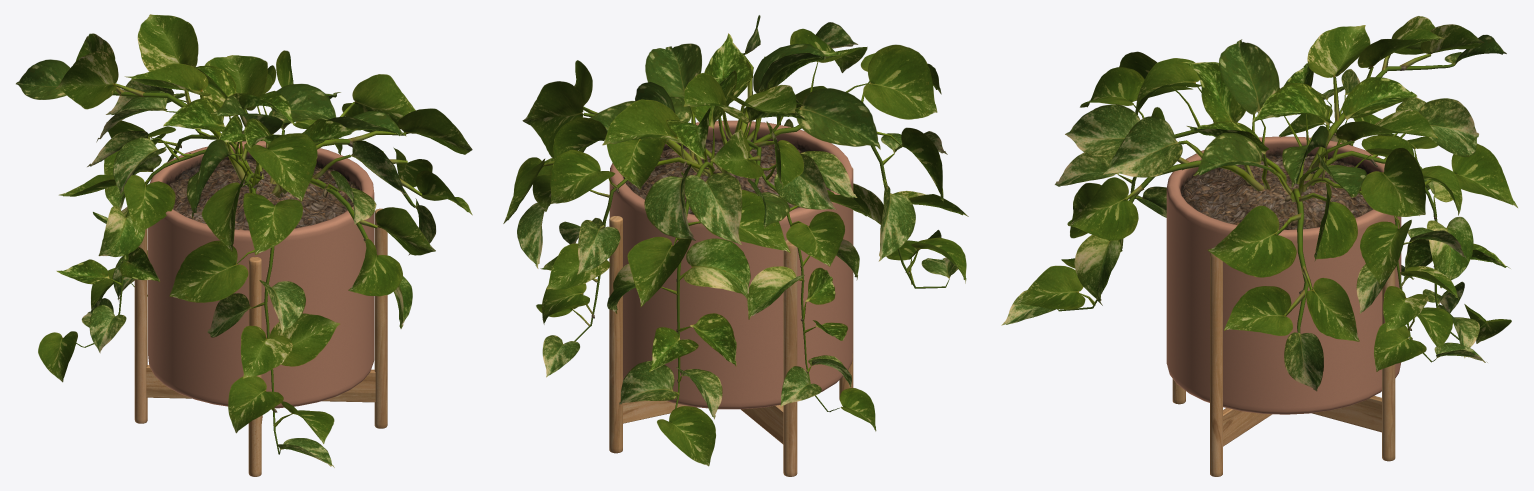
Rendered from mansion-plant.glb.
The picture shows the model from 3 angles, left to right: view 1: azimuth 30°, elevation 25°; view 2: azimuth 150°, elevation 25°; view 3: azimuth 270°, elevation 25°; orthographic projection. The views are drawn at different scales.
Size of the model in its own units: 0.8265 by 0.7917 by 0.9741.
2 materials, 2 textured.
